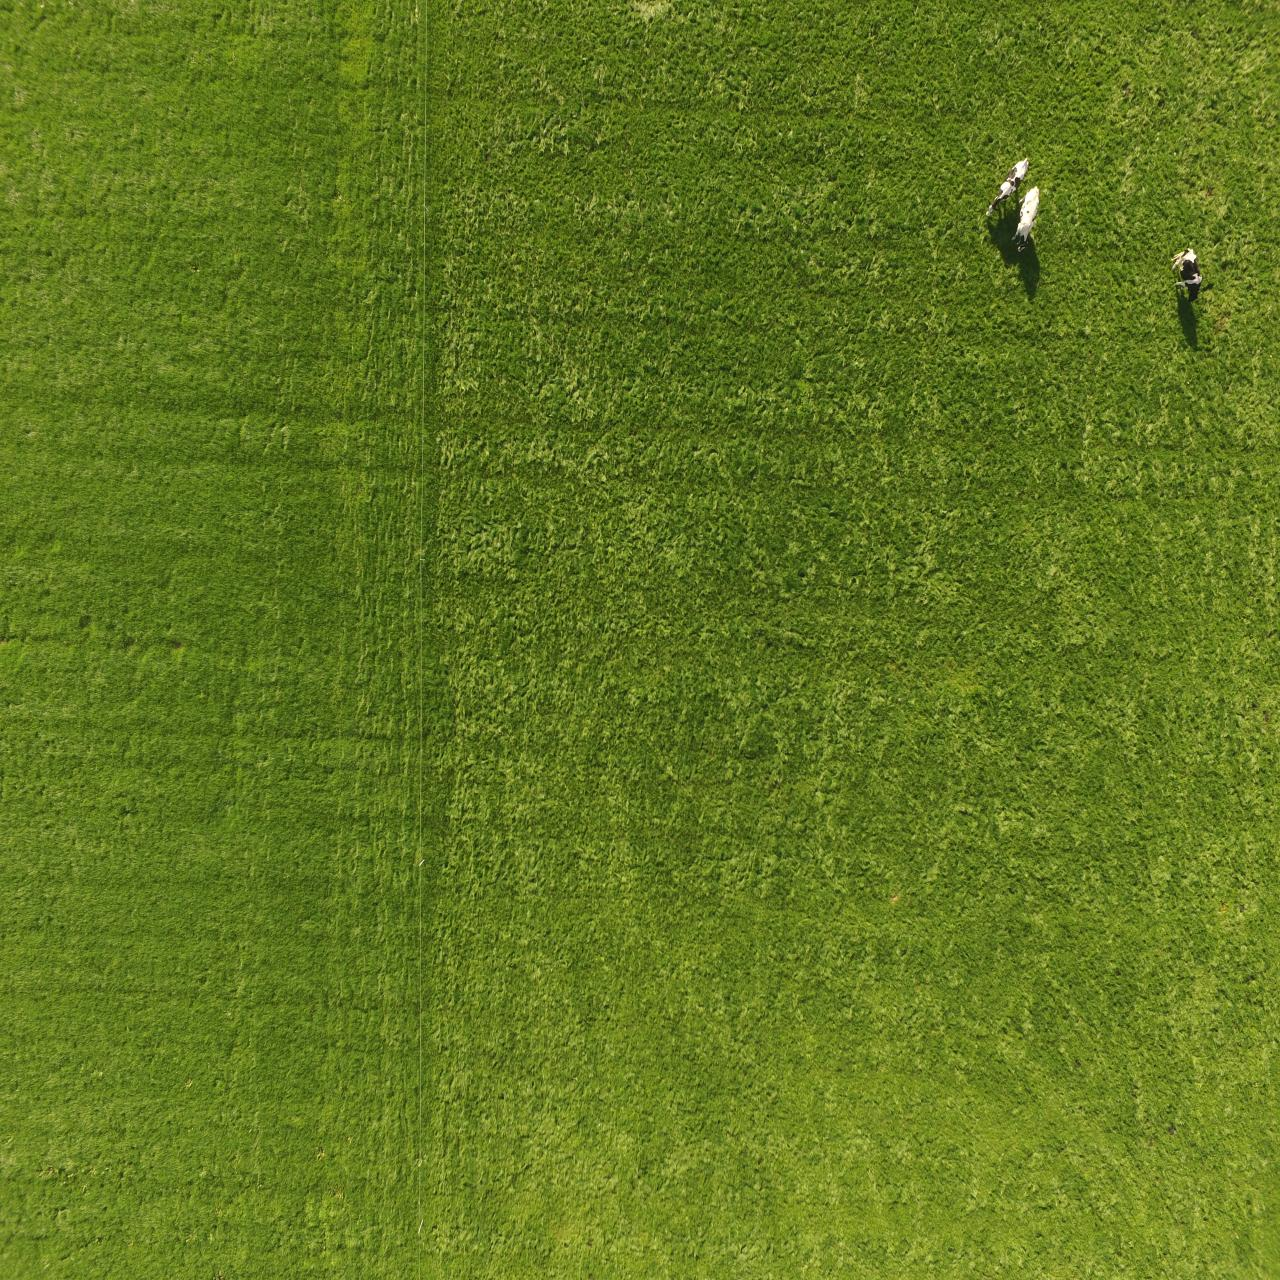cow: (979, 151, 1033, 223), (1005, 185, 1056, 256), (1167, 236, 1208, 309)
